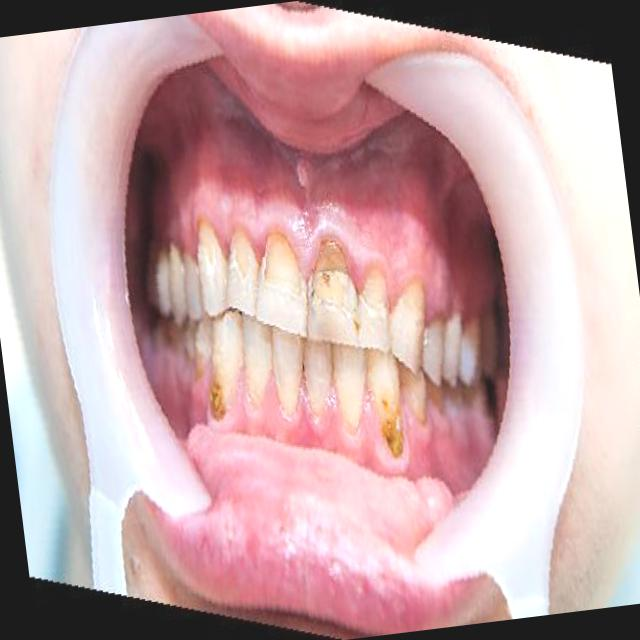calculus: (294, 222, 373, 344), (247, 215, 316, 322), (366, 340, 419, 455), (384, 279, 442, 376), (197, 324, 250, 430), (216, 210, 264, 318), (351, 265, 398, 365), (193, 217, 224, 310)
